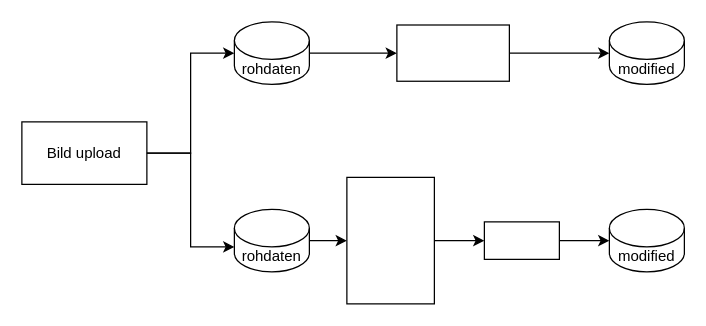
Some shapes in this 706 by 326 pixel diagram are drawn without their labels. The centre of each missing label's shape, as x and y in pixels:
"Functions" goes at [521,240].
"Microservice" goes at [452,52].
"simmulierte aws lamda Umgebung" goes at [390,240].
